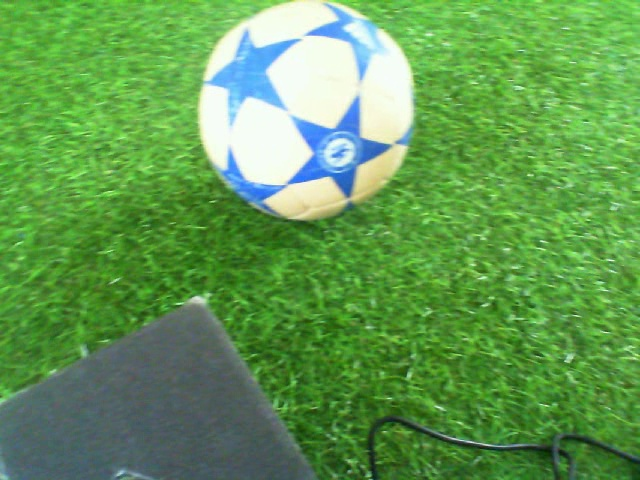ball: (196, 1, 417, 227)
